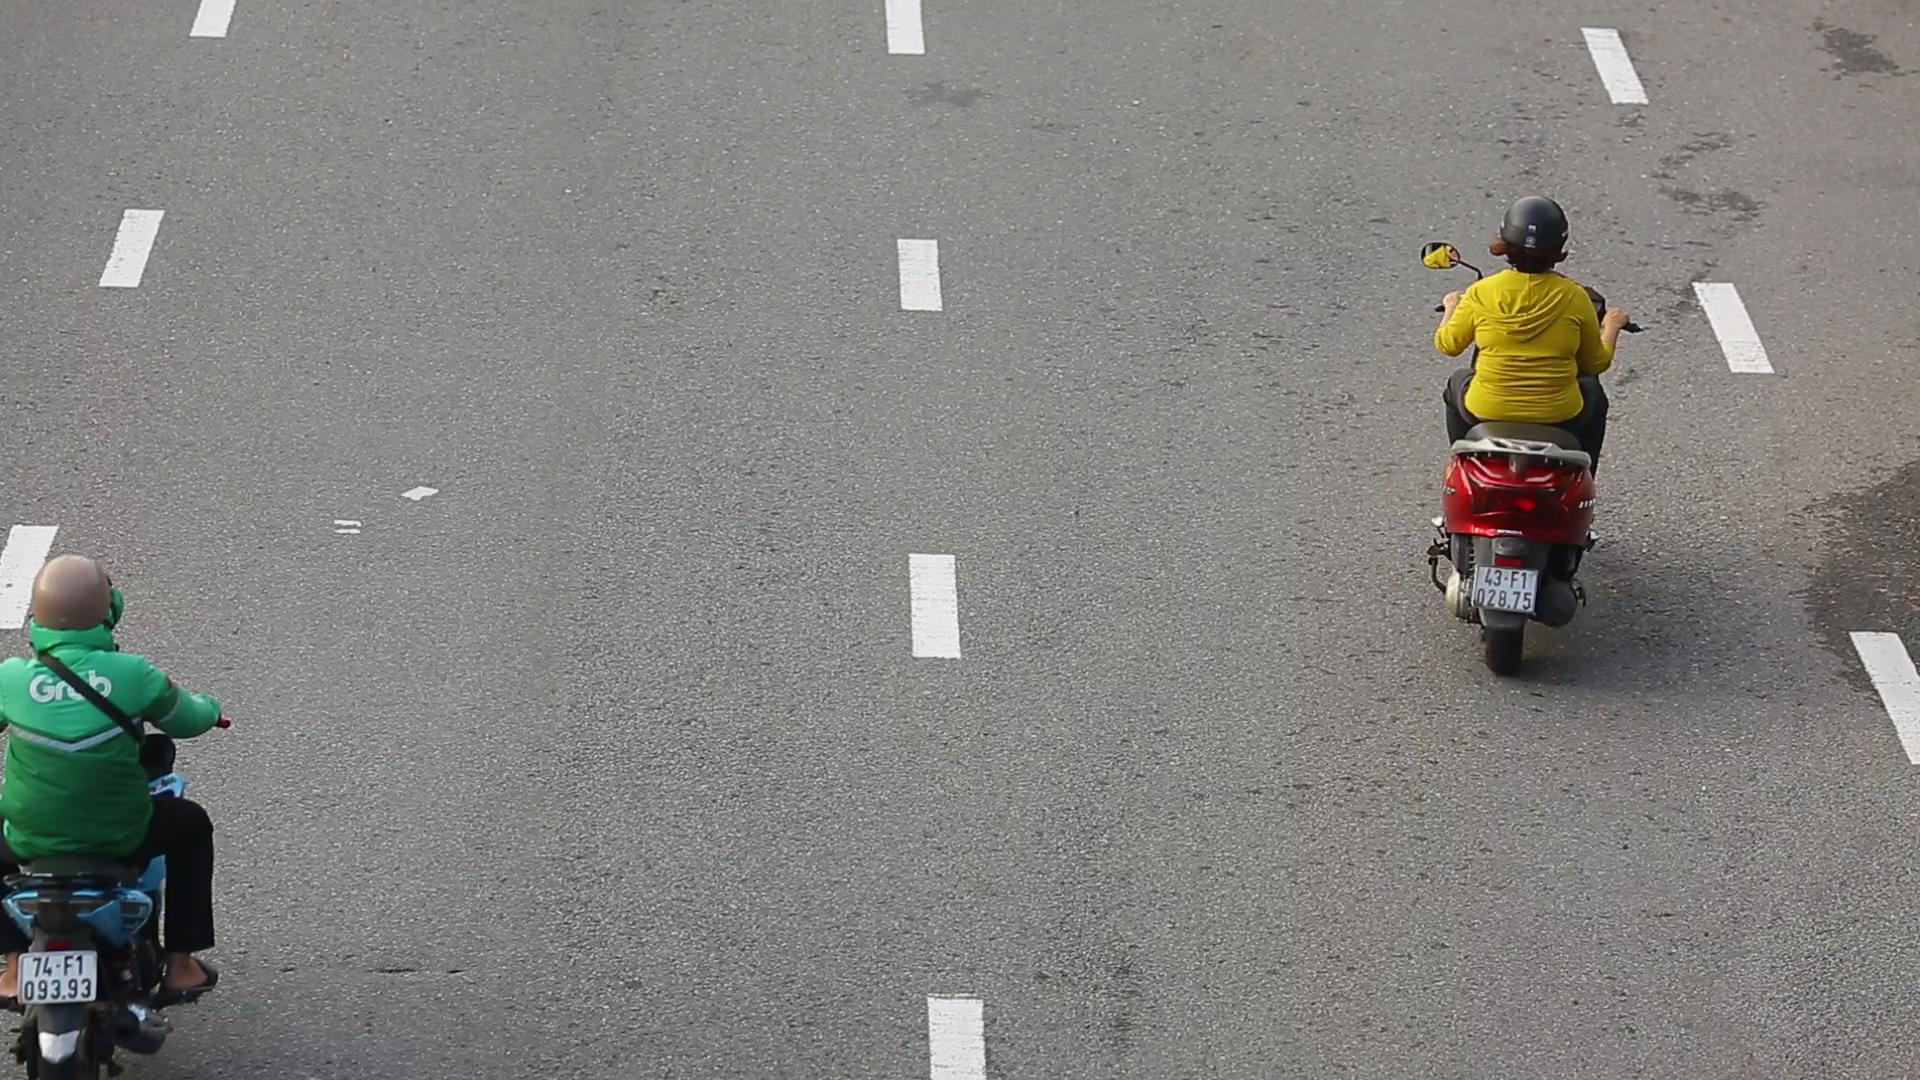motobike: (0, 547, 256, 1072), (1412, 189, 1652, 688)
